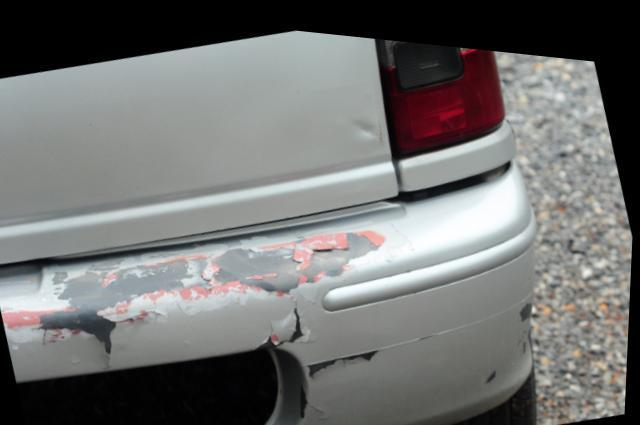dent: (352, 110, 377, 131)
scratch: (31, 216, 398, 343)
